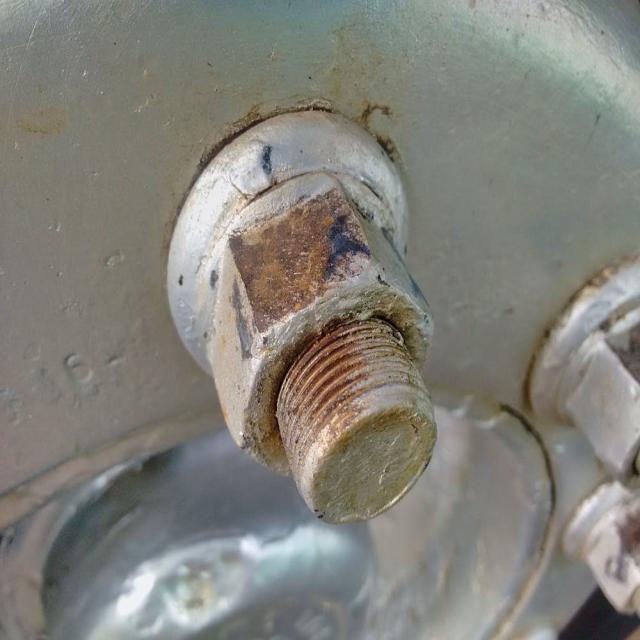bolt nut: (208, 181, 435, 489)
